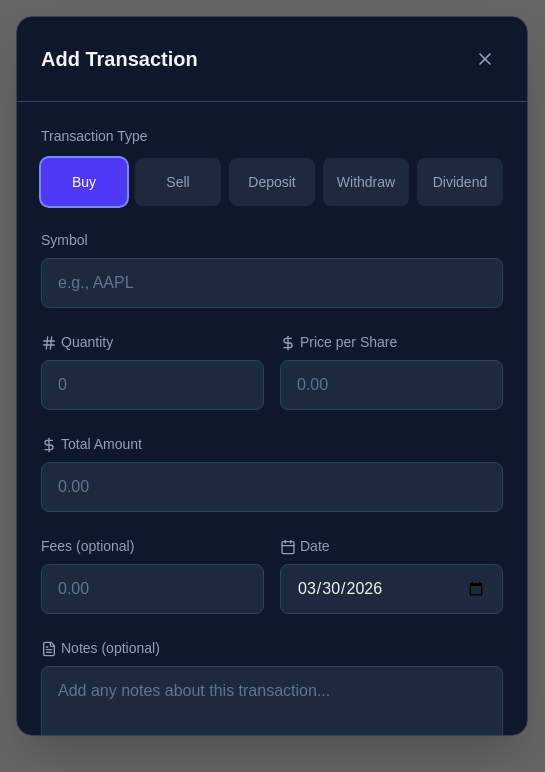
Test case: TransactionModal › Auto-calculation › should auto-calculate total amount for BUY
The image size is (545, 772).
// Enter quantity
Type "10" into the number field with placeholder "0" at (152, 385), box x1=41 y1=360 x2=264 y2=410
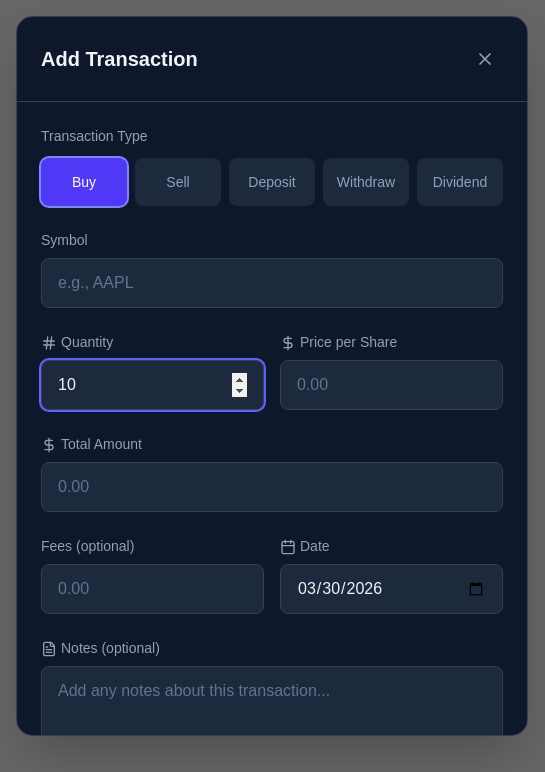
// Enter price
Type "150" into the number field with placeholder "0.00" below "Price per Share" at (392, 385), box x1=280 y1=360 x2=503 y2=410
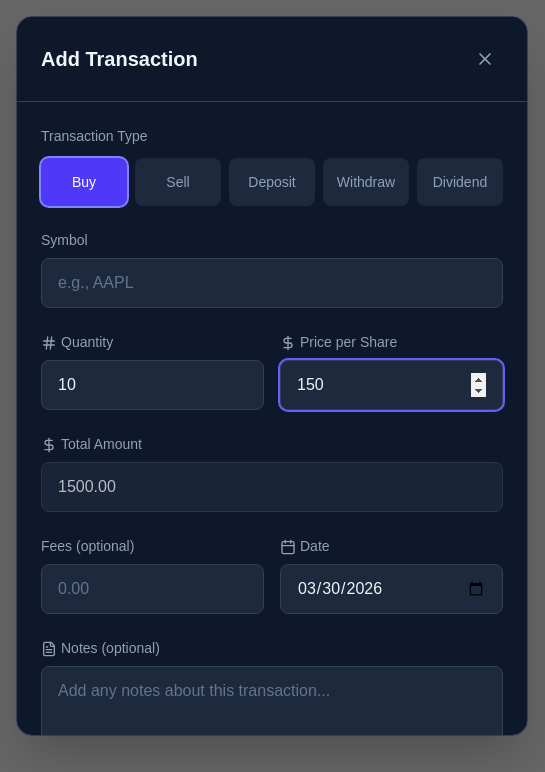
Now the number field with placeholder "0.00" below "Total Amount" holds "1500", box x1=41 y1=462 x2=503 y2=512
